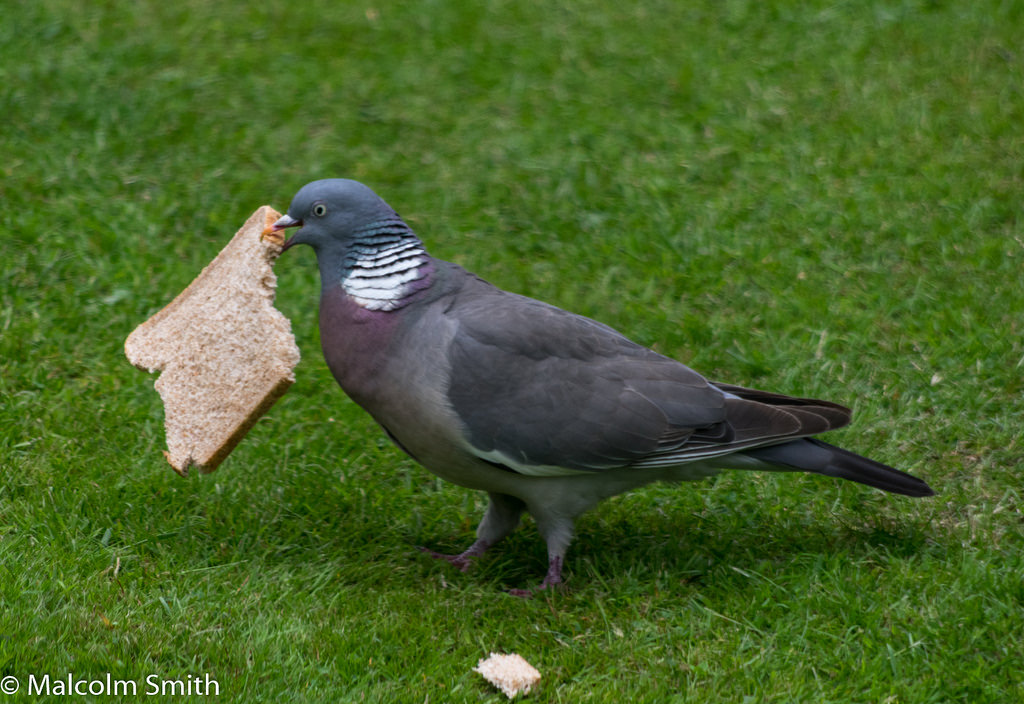slice of bread: (104, 223, 296, 485)
